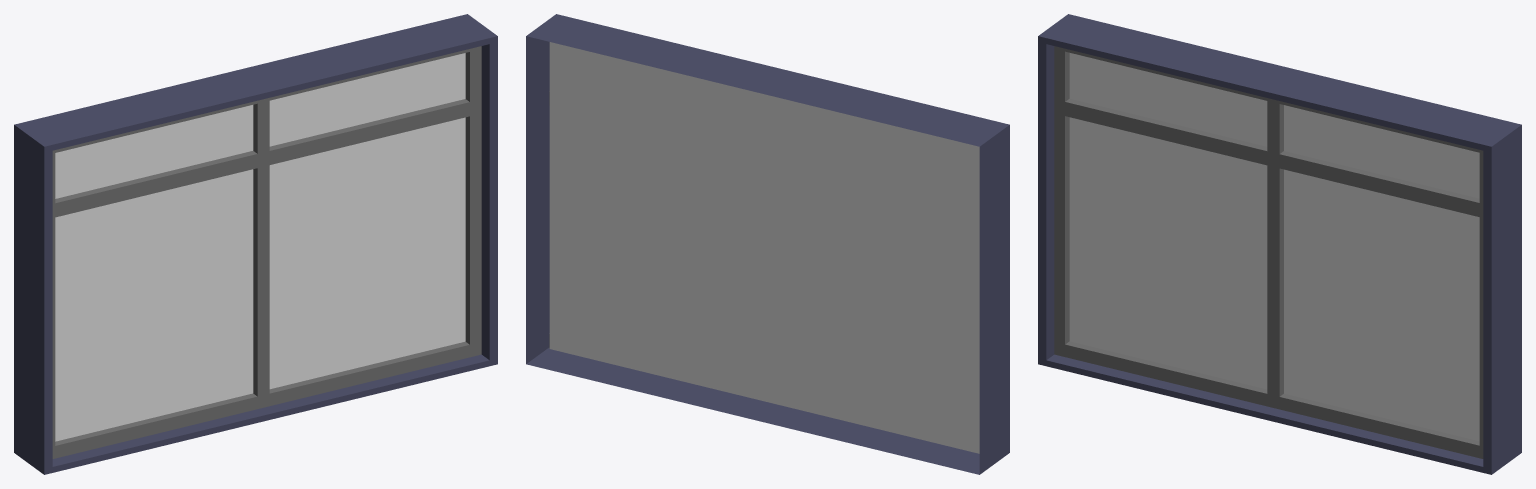
The model's file is window_light.fbx.
3 views of the same model, side by side, from view 1: azimuth 30°, elevation 25°; view 2: azimuth 150°, elevation 25°; view 3: azimuth 330°, elevation 25° (orthographic).
Visible parts, largest first — view 1: window_light; view 2: window_light; view 3: window_light.
Part boxes in pixels (x1,y1,x2,y2): window_light: (14,14,497,474); window_light: (526,14,1009,474); window_light: (1038,14,1521,474).
Bounding box in the file's own units: 2.33 × 1.61 × 0.2686.
